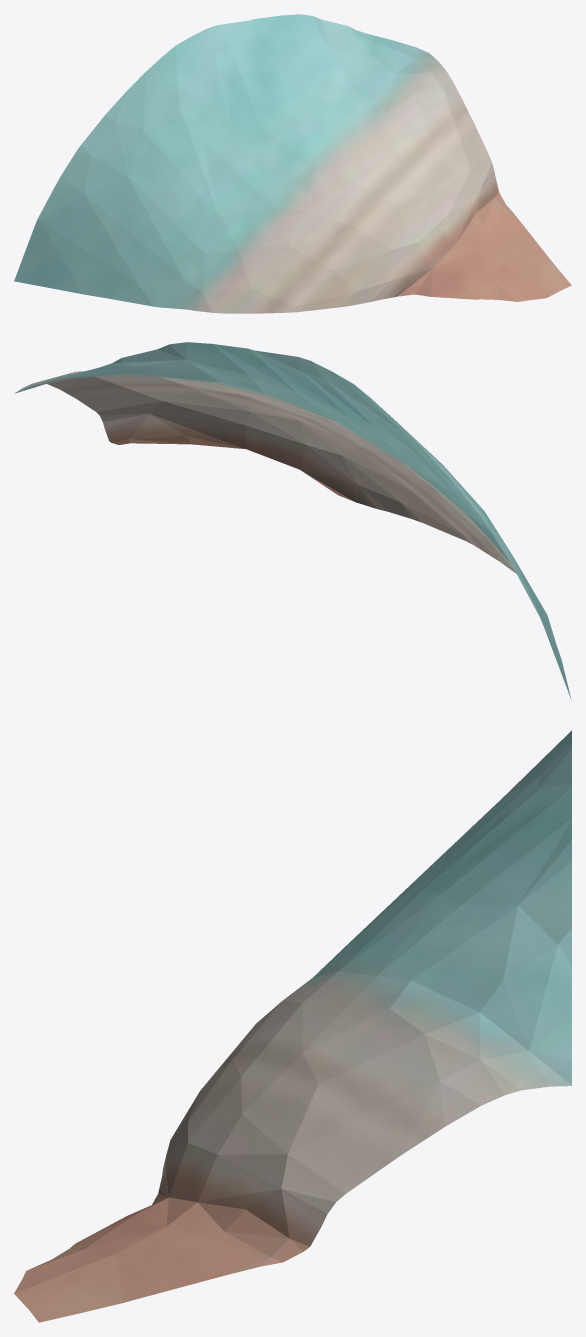
3 views of the same model, one above another, from view 1: azimuth 30°, elevation 25°; view 2: azimuth 150°, elevation 25°; view 3: azimuth 270°, elevation 25° (orthographic). The views are drawn at different scales.
Visible parts, largest first — view 1: 091_W_Aya_100K_01; view 2: 091_W_Aya_100K_01; view 3: 091_W_Aya_100K_01.
Boxes of the visible parts, x1,y1,x2,y2 form: 091_W_Aya_100K_01: (14,14,571,313); 091_W_Aya_100K_01: (14,342,571,700); 091_W_Aya_100K_01: (14,730,571,1322).
Bounding box in the file's own units: 49.5 × 23.58 × 31.14.
Materials: 1 (1 with a texture image).
